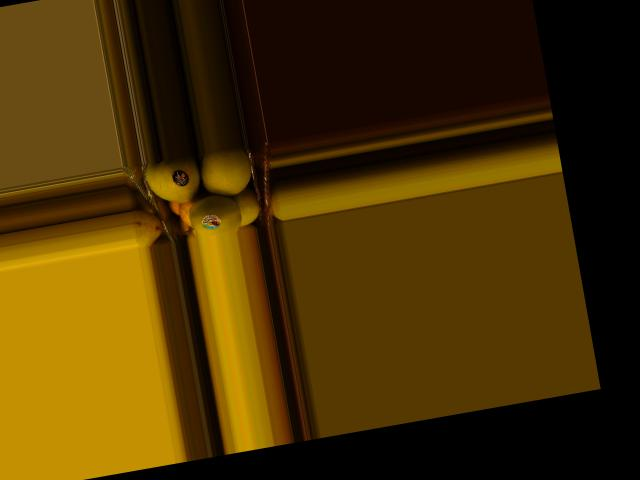apple: (180, 191, 245, 239)
